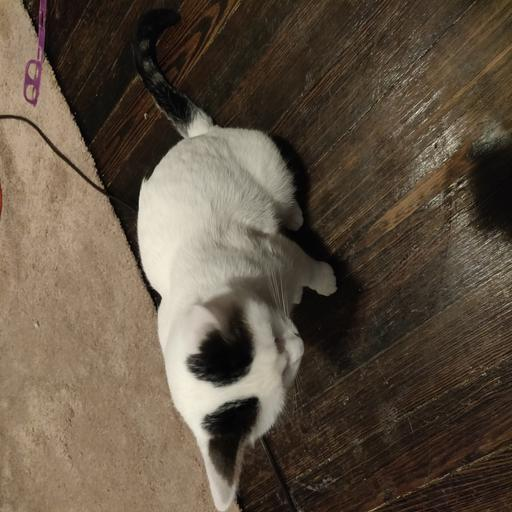cat: (146, 255, 338, 447)
